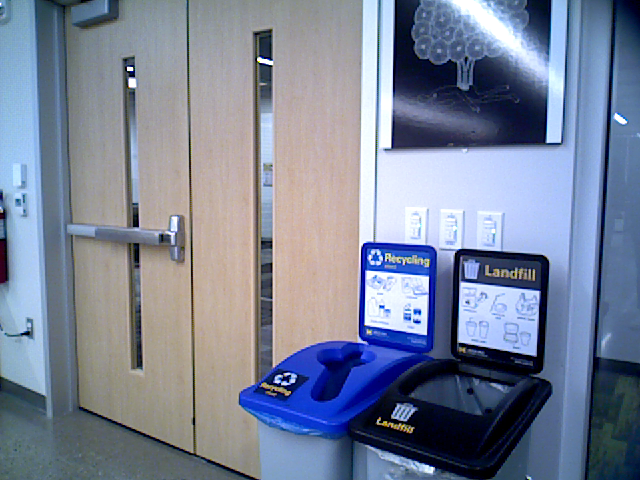painting1: (385, 1, 557, 147)
